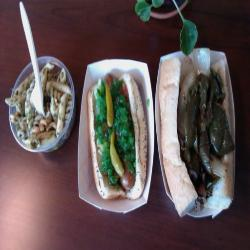hotdog: (152, 44, 243, 235), (76, 64, 152, 209)
